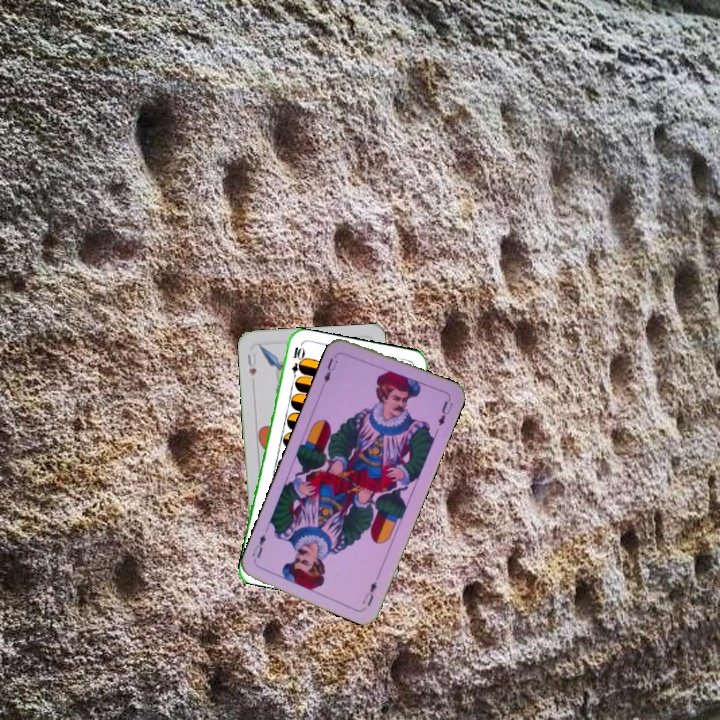E10: (287, 343, 304, 383)
EU: (320, 350, 340, 385), (358, 577, 380, 608)
HU: (244, 349, 259, 378)
